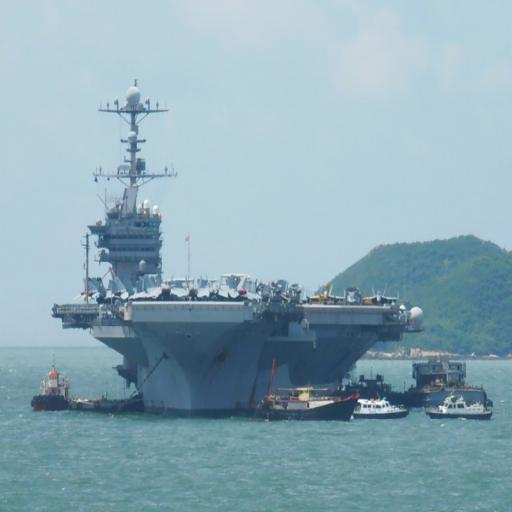Portanaves: (53, 78, 433, 415)
